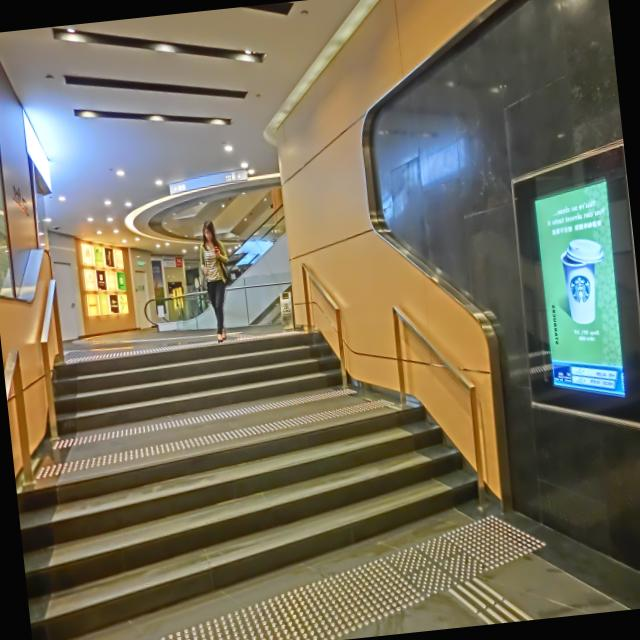Stairs: (1, 231, 503, 640)
